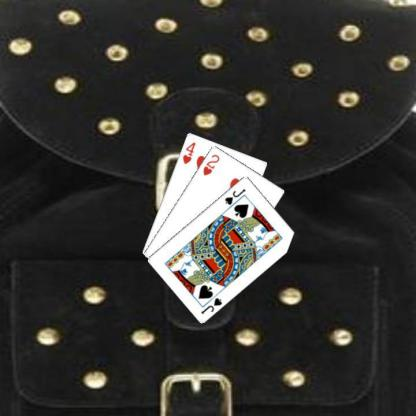2H: (200, 151, 221, 177)
4H: (180, 139, 196, 165)
JS: (198, 294, 224, 315), (222, 186, 247, 206)
